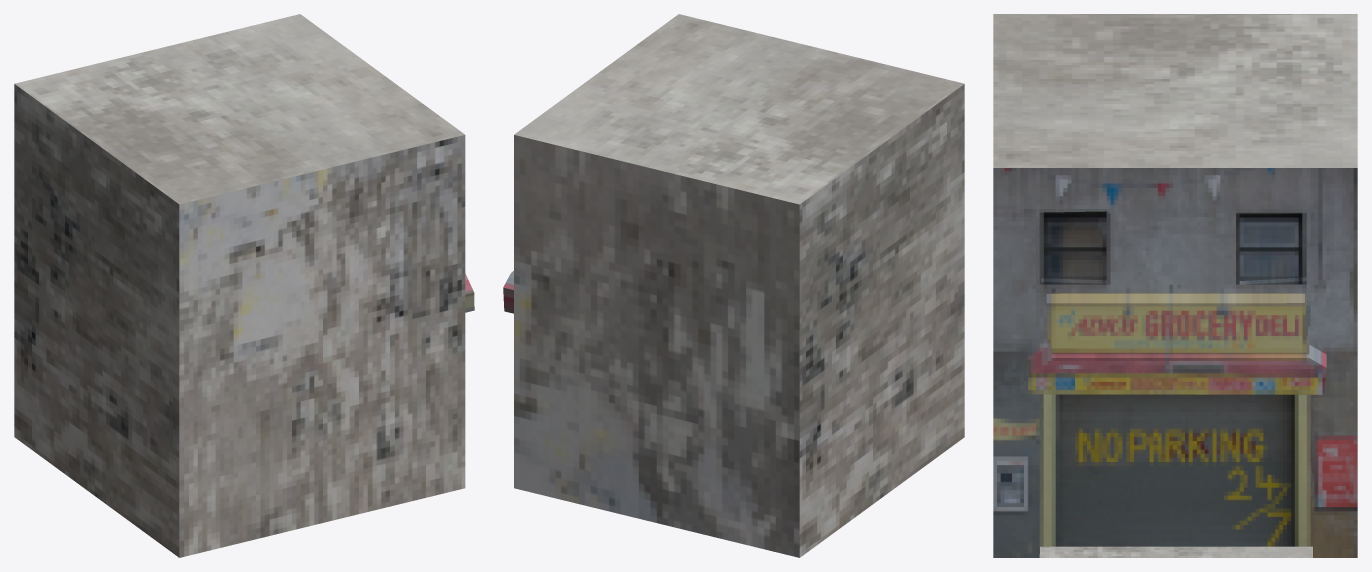
The model's file is GroceryStore.fbx.
3 views of the same model, side by side, from view 1: azimuth 30°, elevation 25°; view 2: azimuth 150°, elevation 25°; view 3: azimuth 270°, elevation 25° (orthographic). The views are drawn at different scales.
Parts seen in each view (by area): view 1: Cube; view 2: Cube; view 3: Cube.
Boxes of the visible parts, x1,y1,x2,y2 form: Cube: [14, 14, 474, 557]; Cube: [503, 14, 964, 557]; Cube: [993, 14, 1357, 557].
Bounding box in the file's own units: 1941 × 2110 × 1786.
Materials: 1 (1 with a texture image).
